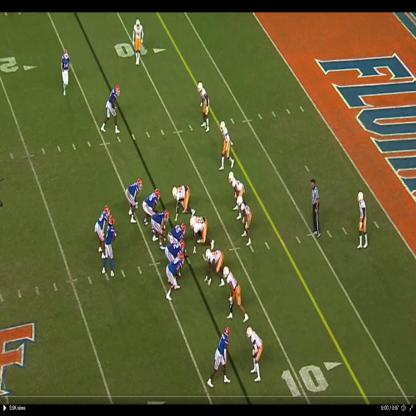CENTER: (172, 224, 187, 246)
DB: (250, 326, 265, 383), (220, 122, 235, 169), (357, 188, 367, 246), (200, 80, 210, 130), (133, 18, 143, 65)
LB: (240, 197, 254, 243), (230, 174, 244, 208)
QB: (105, 214, 116, 278)
SKILL: (210, 329, 232, 387), (103, 85, 119, 133), (95, 206, 109, 252), (128, 178, 142, 223), (63, 50, 72, 94)
